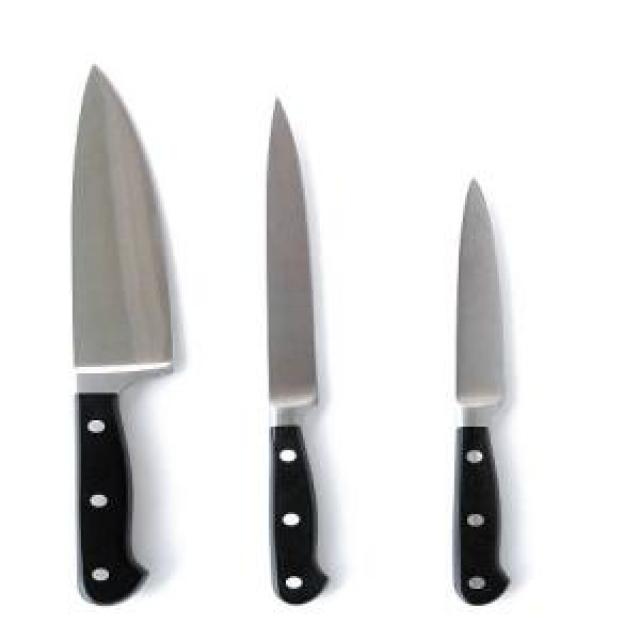knife: (28, 66, 193, 622), (248, 96, 339, 612), (426, 175, 520, 609)
